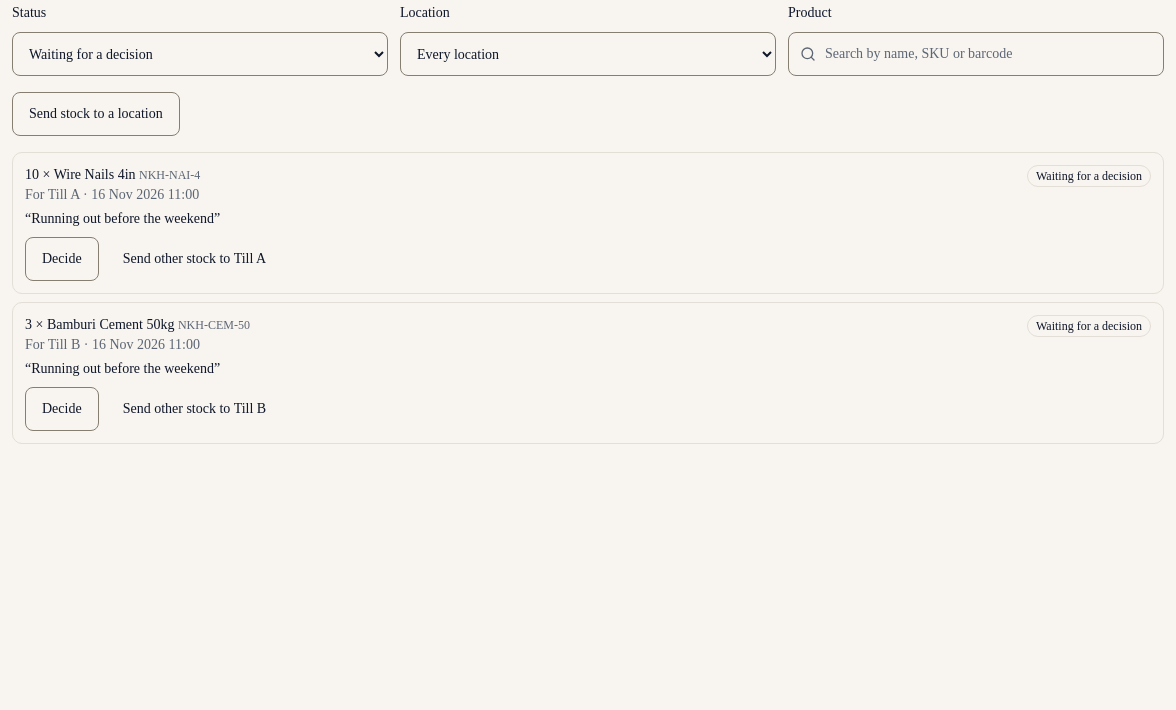
Test case: the stock-request worklist › sends other stock straight to a request's till
Click the button "Send other stock to Till B" at (194, 409), box [107,387,282,431]
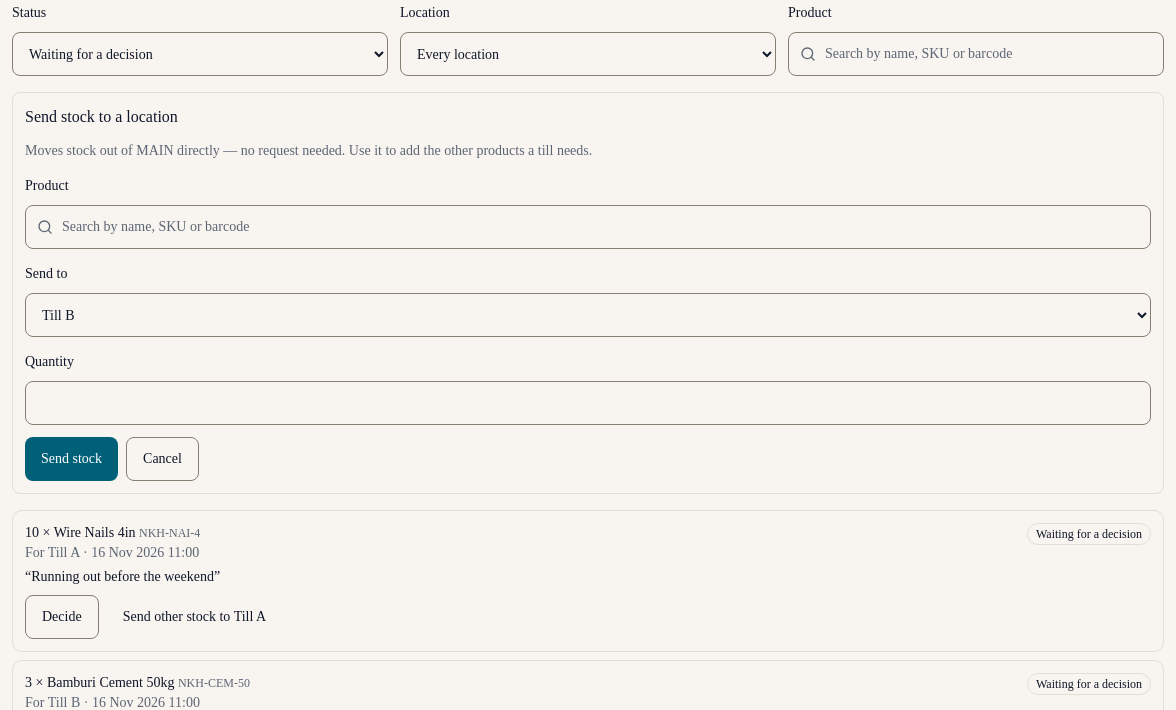
Result: the dropdown labelled "Send to" shows "Till B" at [25,293,1151,337]
Type "tape" into the search field labelled "Product" below "Send stock to a location" at (588, 227), box [25,205,1151,249]
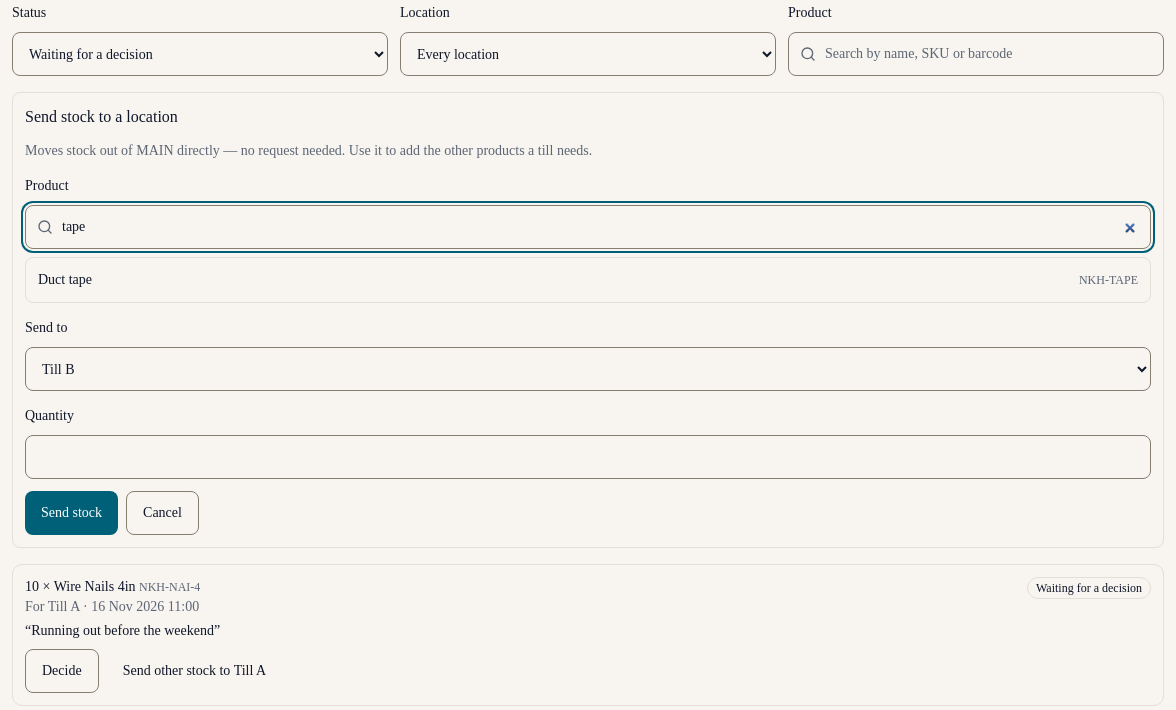
Click the button "Duct tape NKH-TAPE" at (65, 280), box [26,258,1150,302]
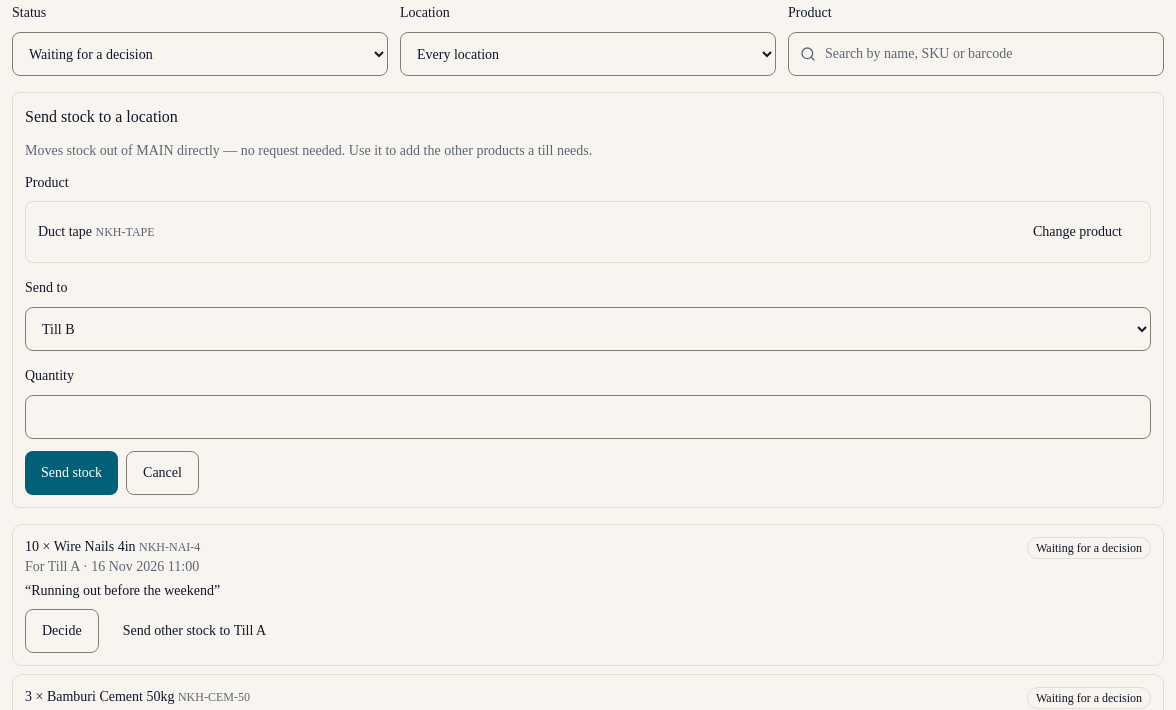
Type "2" into the field labelled "Quantity" at (588, 417), box [25,395,1151,439]
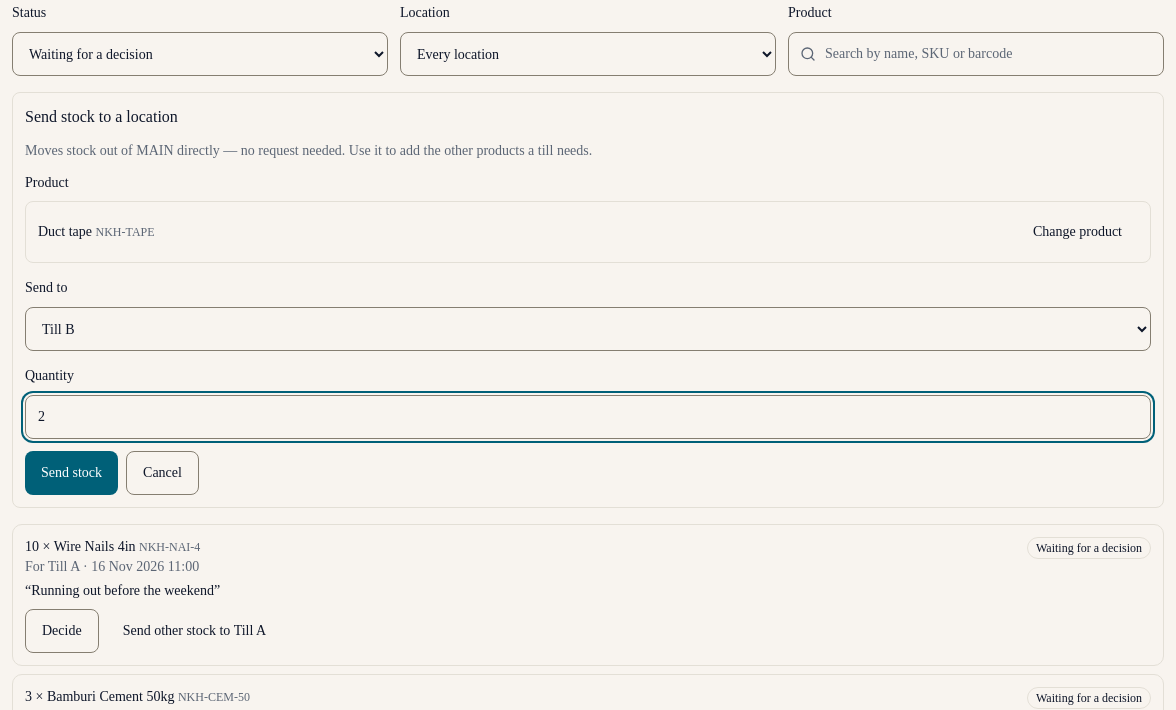
Click the button "Send stock" at (72, 473), box [25,451,118,495]
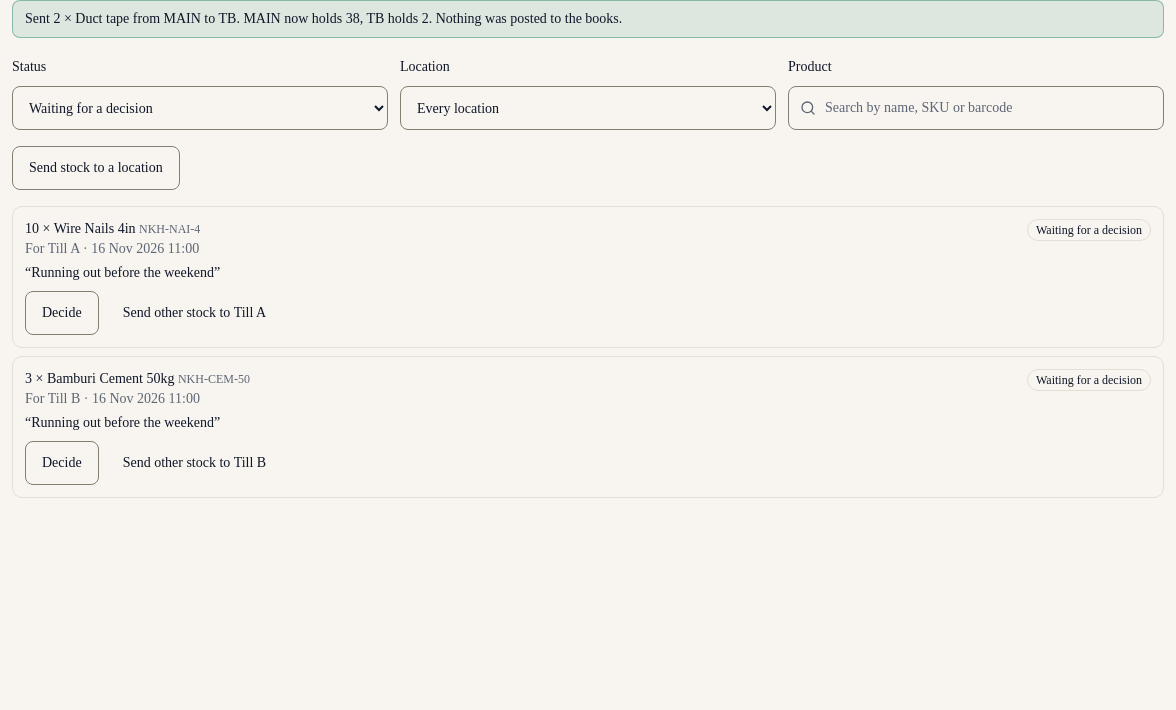
Result: the text "Sent 2 × Duct tape from MAIN to TB. MAIN now holds 38, TB holds 2." is shown at [25,11,622,26]
